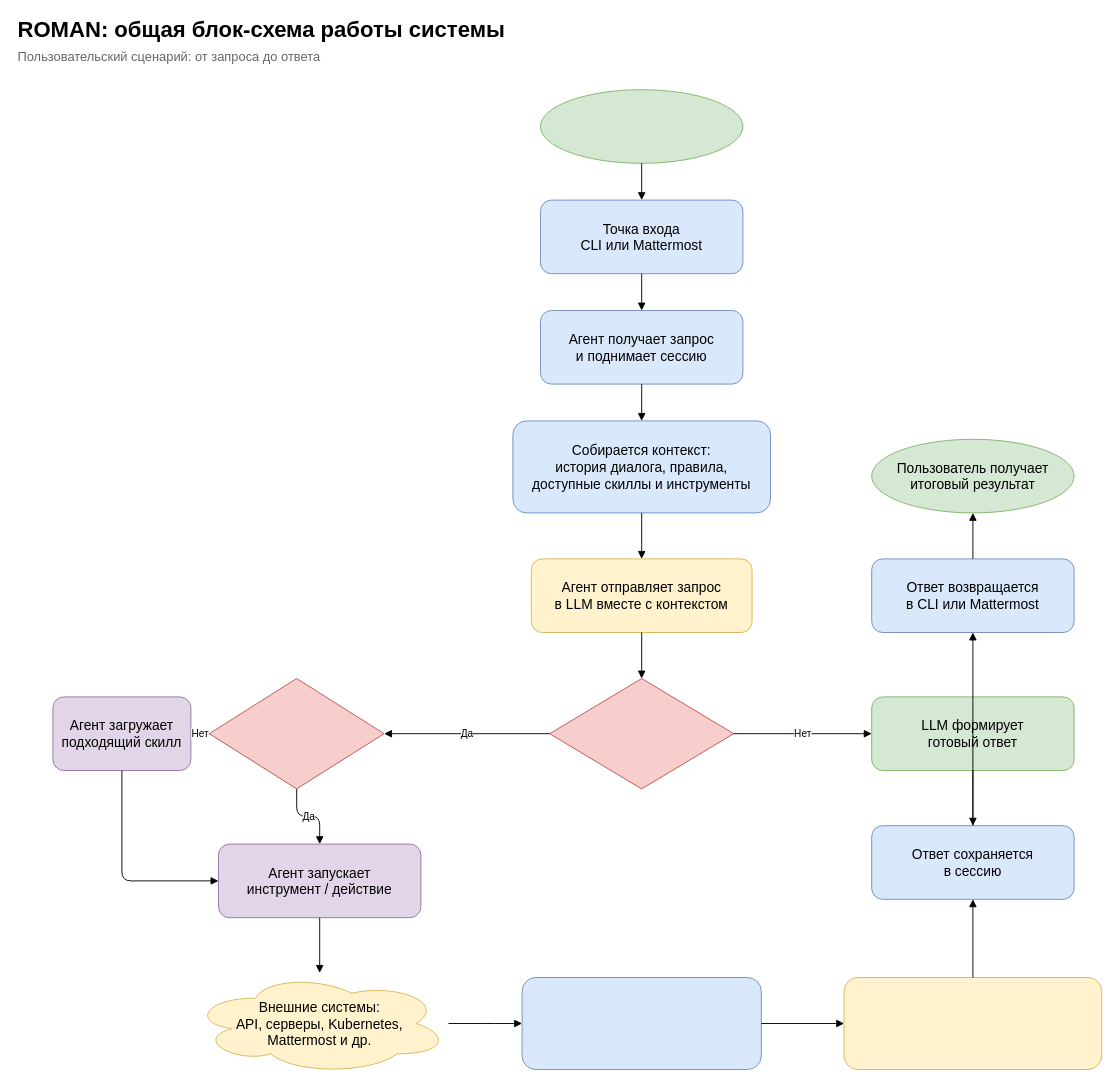
The diagram is 1118 pixels wide and 1090 high, and some of its shapes have lost their labels. Here are the shapes that lost their labels. From the top down, the box of each, then its label:
(540, 89, 743, 163): Пользователь отправляет вопрос или команду
(208, 678, 384, 789): Нужный скилл уже загружен?
(549, 678, 734, 789): Нужны ли дополнительные действия или проверки?
(521, 977, 761, 1070): Результат действия возвращается агенту
(843, 977, 1102, 1070): Агент передает результат обратно в LLM для сборки итогового ответа
